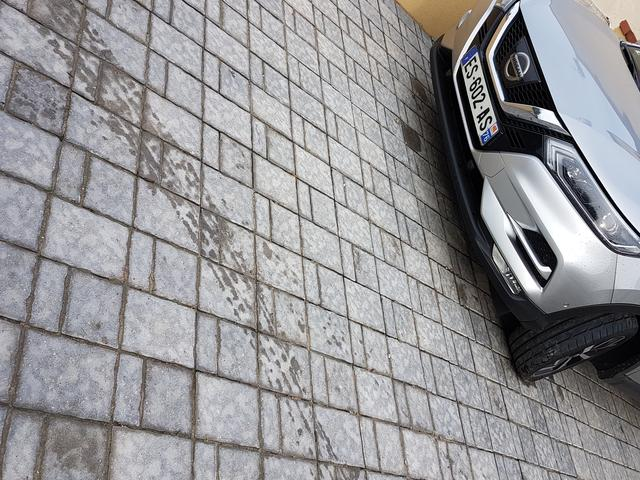Quashquai: (445, 37, 507, 158)
